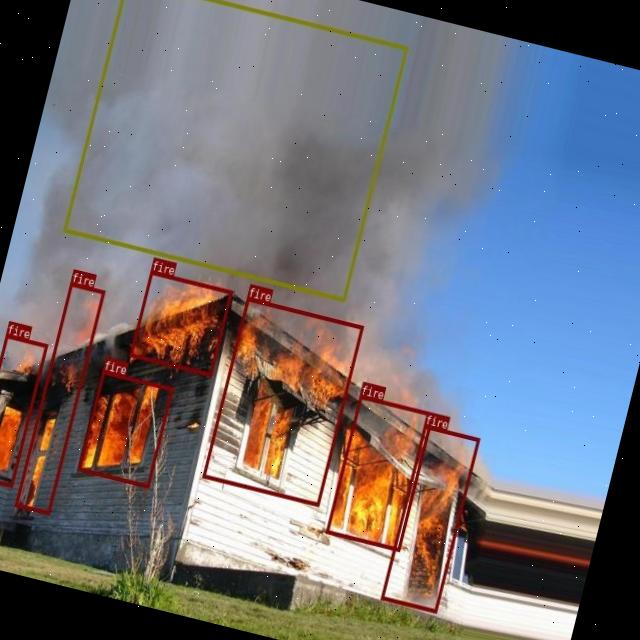fire: (202, 296, 362, 506), (14, 282, 105, 514), (380, 423, 480, 612), (325, 395, 433, 551), (76, 370, 174, 488), (129, 270, 232, 376), (0, 333, 47, 486)
smoke: (62, 0, 408, 301)
